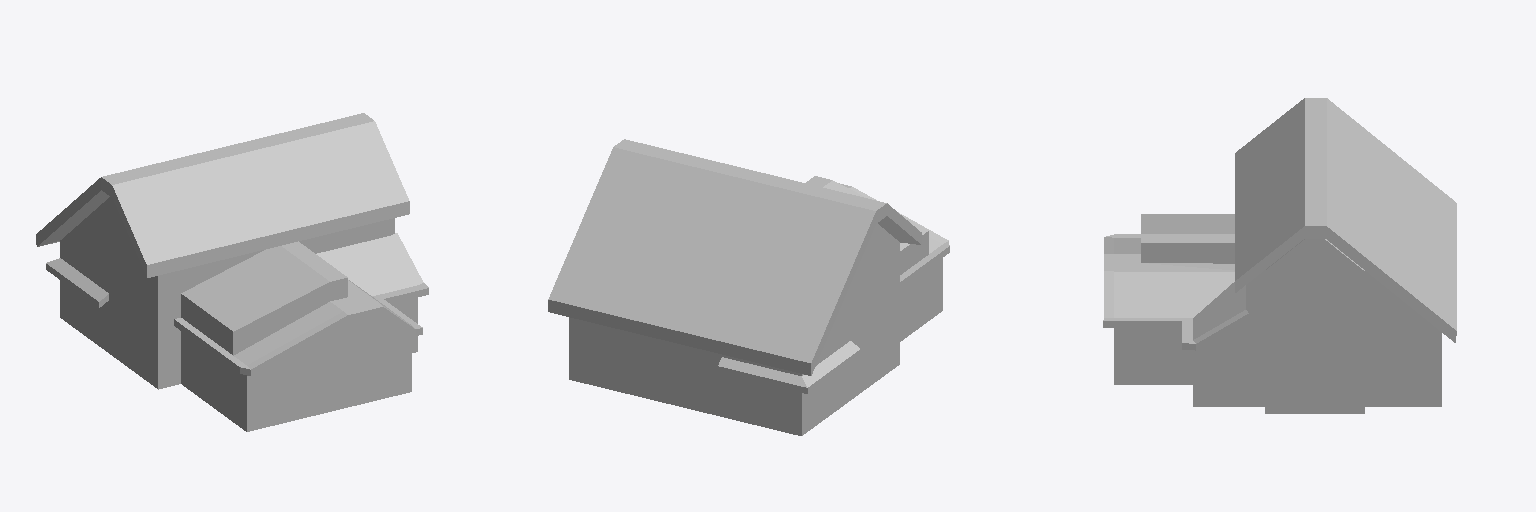
The model's file is Fachada2.obj.
3 renders of one model, left to right at view 1: azimuth 30°, elevation 25°; view 2: azimuth 150°, elevation 25°; view 3: azimuth 270°, elevation 25°, orthographic.
Parts seen in each view (by area): view 1: Cube.115_Cube.058; view 2: Cube.115_Cube.058; view 3: Cube.115_Cube.058, Cube.117_Cube.061.
Boxes of the visible parts, box(x1,y1,x2,y2) form: Cube.115_Cube.058: box(36, 113, 428, 431); Cube.115_Cube.058: box(548, 139, 949, 435); Cube.115_Cube.058: box(1103, 98, 1456, 406); Cube.117_Cube.061: box(1265, 239, 1364, 413).
Bounding box in the file's own units: 38.08 × 26 × 44.33.